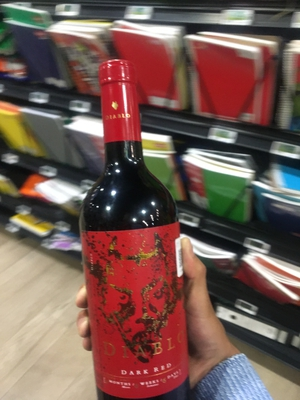diablo dark red: (67, 66, 193, 400)
